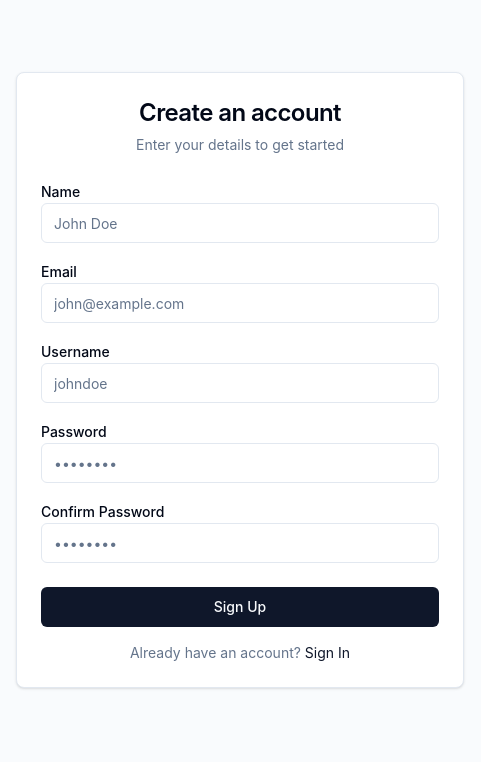
Test: RegisterPage › validates required fields
Click the button "Sign Up" at (240, 607), box x1=41 y1=587 x2=439 y2=627
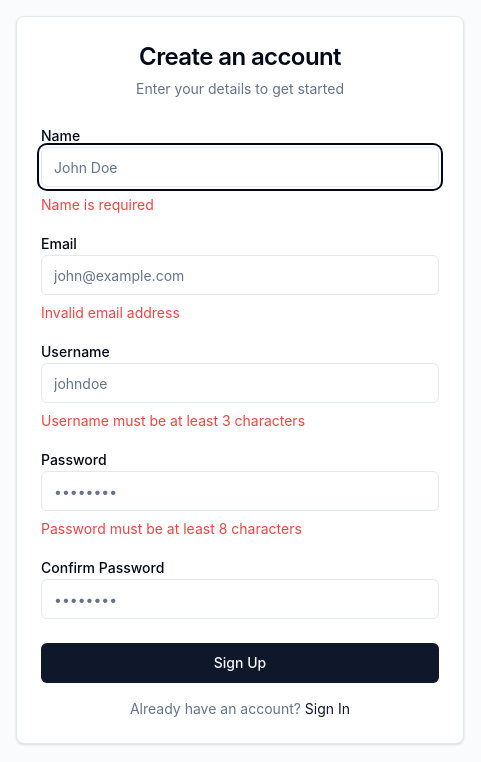
expect the text "Name is required" is shown: met, box x1=41 y1=196 x2=154 y2=213
